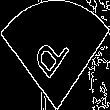P_SW: (33, 24, 77, 86)
